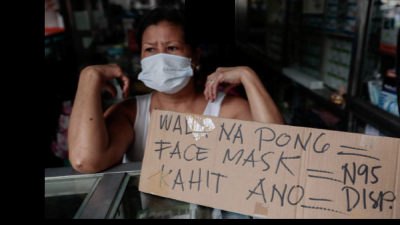with_mask: (137, 37, 194, 93)
